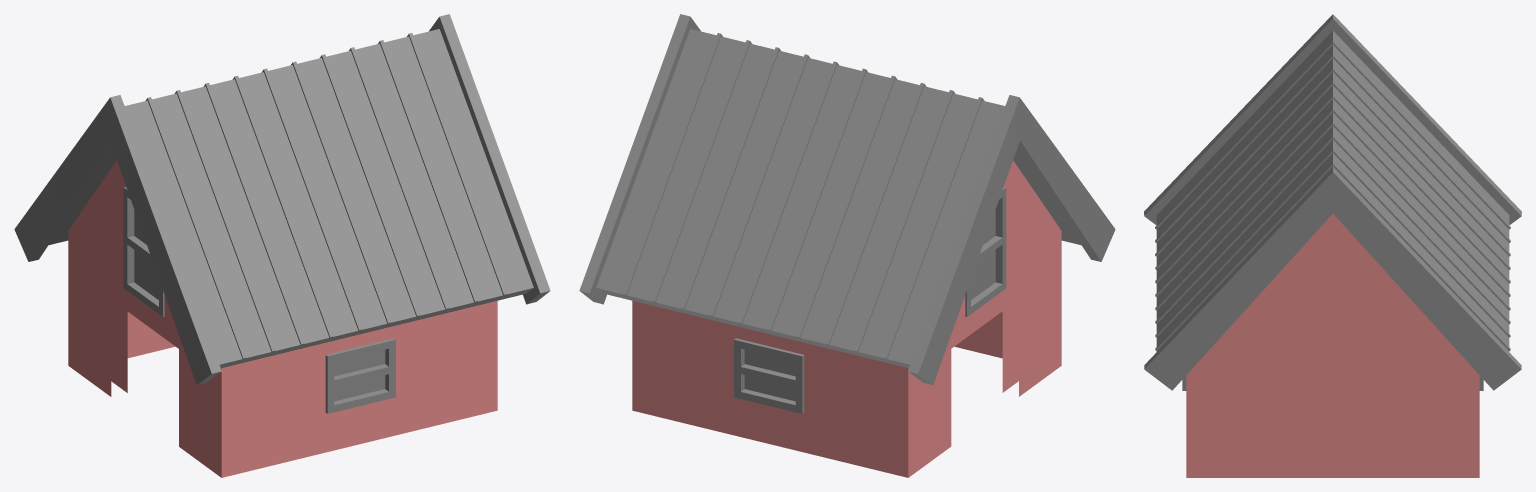
Rendered from HarborHouse01_Top.fbx.
3 views of the same model, side by side, from view 1: azimuth 30°, elevation 25°; view 2: azimuth 150°, elevation 25°; view 3: azimuth 270°, elevation 25° (orthographic). The views are drawn at different scales.
Parts seen in each view (by area): view 1: SM_HarborHouse01_HarborHouse01_Top; view 2: SM_HarborHouse01_HarborHouse01_Top; view 3: SM_HarborHouse01_HarborHouse01_Top.
Boxes of the visible parts, box(x1,y1,x2,y2) form: SM_HarborHouse01_HarborHouse01_Top: box(14, 14, 550, 477); SM_HarborHouse01_HarborHouse01_Top: box(579, 14, 1115, 477); SM_HarborHouse01_HarborHouse01_Top: box(1144, 14, 1521, 477).
Bounding box in the file's own units: 502 × 466 × 501.
